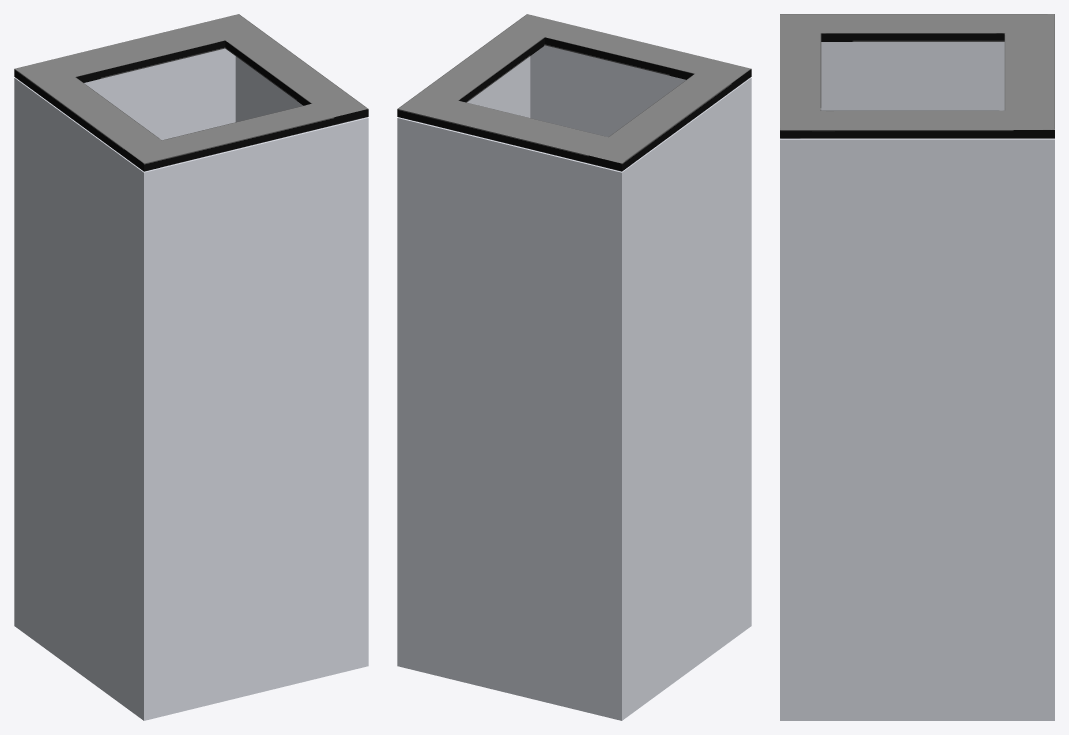
File: trashcan_square.fbx
3 views of the same model, side by side, from view 1: azimuth 30°, elevation 25°; view 2: azimuth 150°, elevation 25°; view 3: azimuth 270°, elevation 25° (orthographic). The views are drawn at different scales.
Visible parts, largest first — view 1: Bin_square; view 2: Bin_square; view 3: Bin_square.
Boxes of the visible parts, bbox=[...] form: Bin_square: bbox=[14, 14, 368, 720]; Bin_square: bbox=[397, 14, 751, 720]; Bin_square: bbox=[780, 14, 1054, 720].
Bounding box in the file's own units: 30 × 71.16 × 30.
